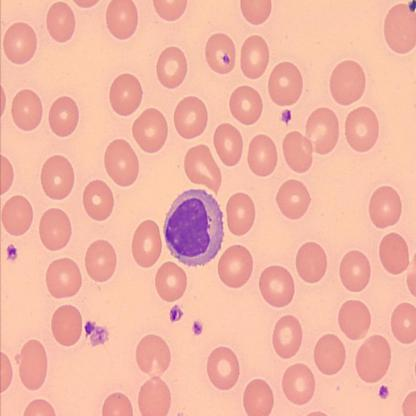Lymphocyte: (162, 187, 225, 268)
